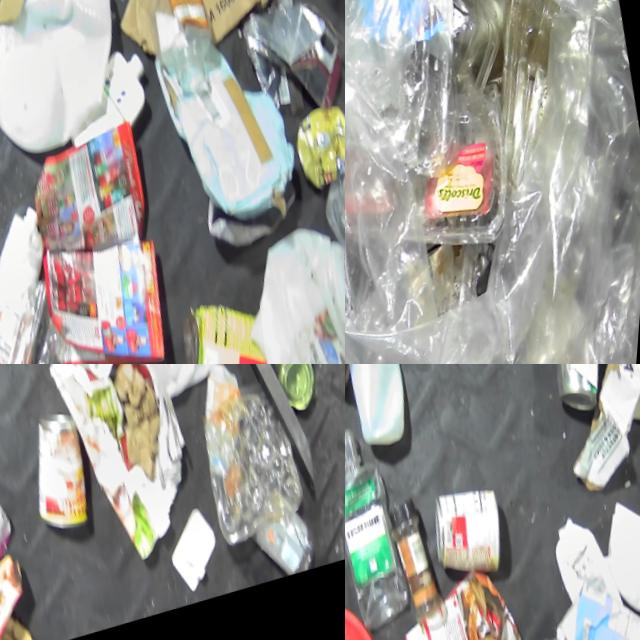can: (20, 404, 110, 546), (424, 481, 519, 590), (172, 292, 294, 364), (288, 104, 345, 202), (538, 364, 617, 428), (263, 364, 328, 426)
milk_jug: (0, 0, 145, 172), (228, 214, 345, 364), (94, 364, 267, 416), (345, 364, 426, 458)
non_white_jug: (546, 570, 640, 640)
plastic_bottle: (345, 418, 425, 640), (135, 0, 230, 106), (255, 502, 331, 591)
